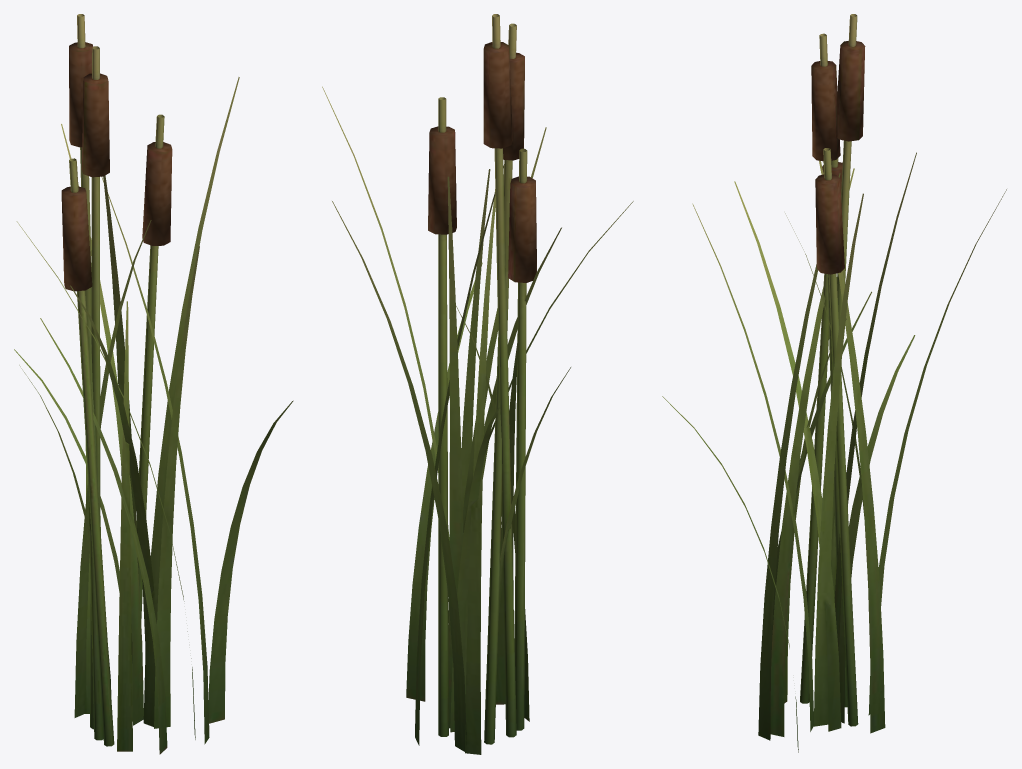
Rendered from reeds.glb.
3 views of the same model, side by side, from view 1: azimuth 30°, elevation 25°; view 2: azimuth 150°, elevation 25°; view 3: azimuth 270°, elevation 25° (orthographic). The views are drawn at different scales.
Parts seen in each view (by area): view 1: reeds; view 2: reeds; view 3: reeds.
Part boxes in pixels (x1,y1,x2,y2): reeds: (14, 14, 293, 754); reeds: (322, 14, 633, 754); reeds: (662, 14, 1006, 752).
Size of the model in its own units: 0.6339 by 1.83 by 0.8344.
Materials: 1 (1 with a texture image).
